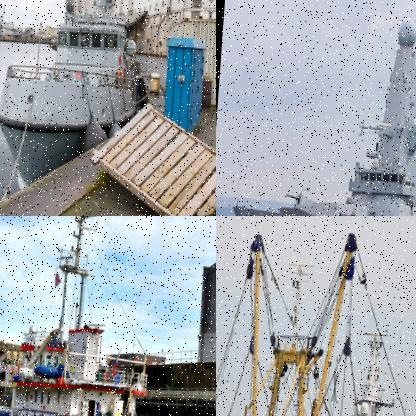Fishing Boat: (216, 221, 415, 415)
Merchant Ship: (0, 216, 186, 415)
Military Ship: (228, 3, 415, 215)
Patrol Boat: (0, 0, 166, 201)
